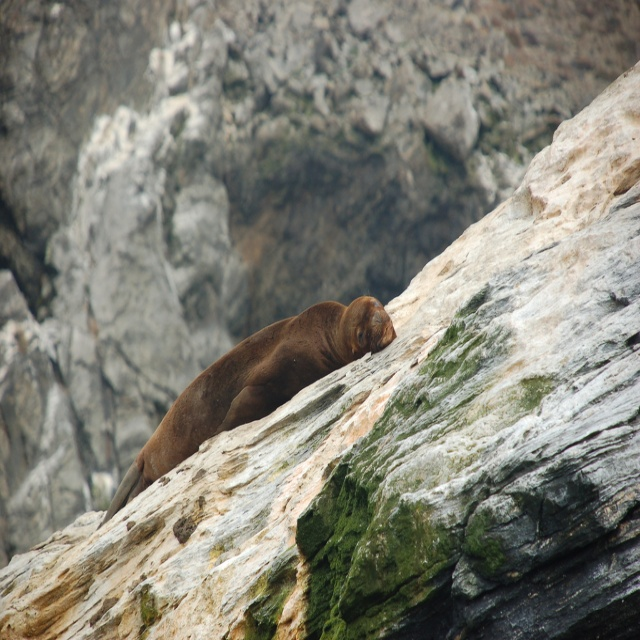Sea lion: (98, 294, 397, 536)
